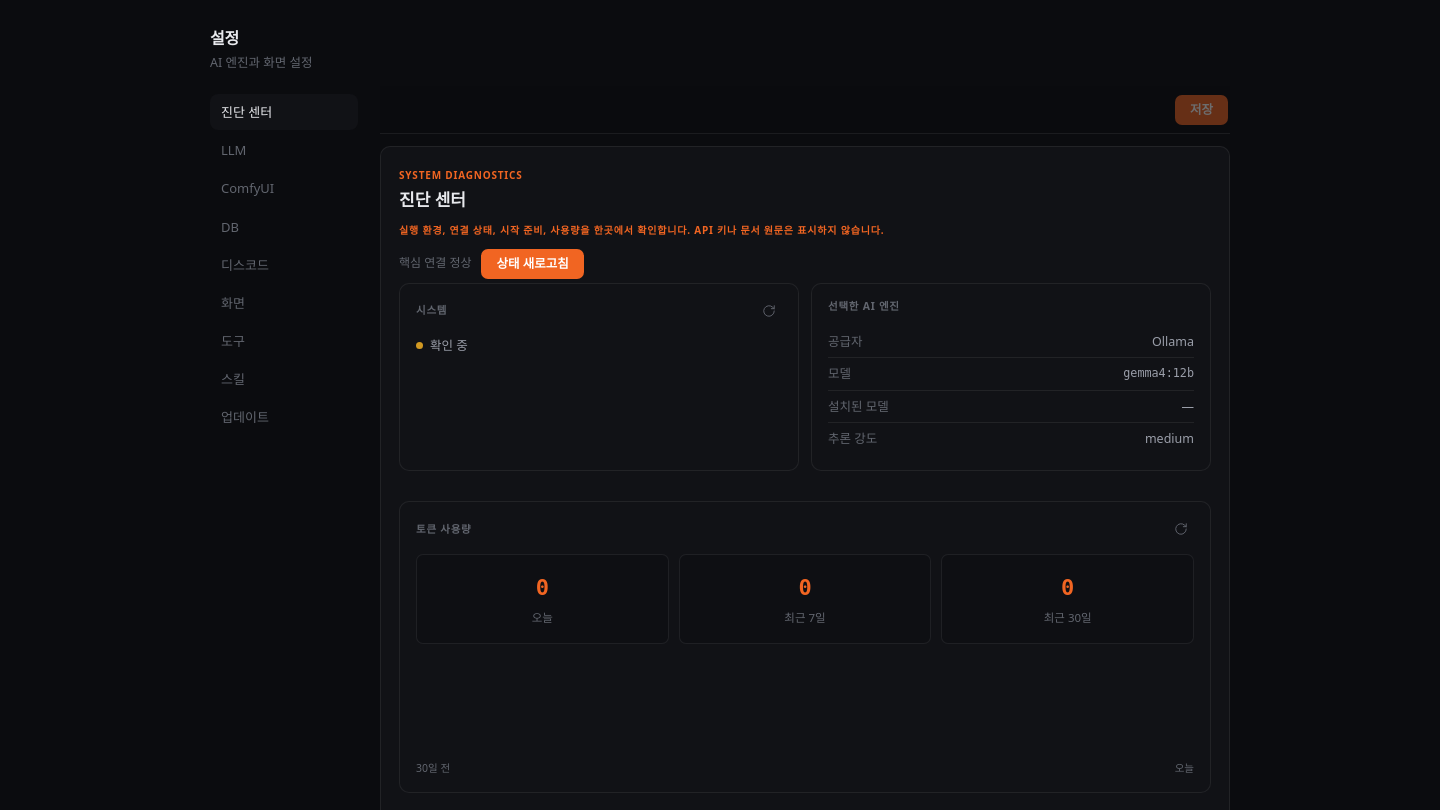
Test case: SettingsView › combines engine, generation, and search settings in the LLM tab
The width and height of the screenshot is (1440, 810).
Expected: the button "생성" is not shown
Expected: the button "리소스" is not shown
Click the button "LLM" at {"x": 284, "y": 150}, box [210,132,358,168]
(page scrolled)
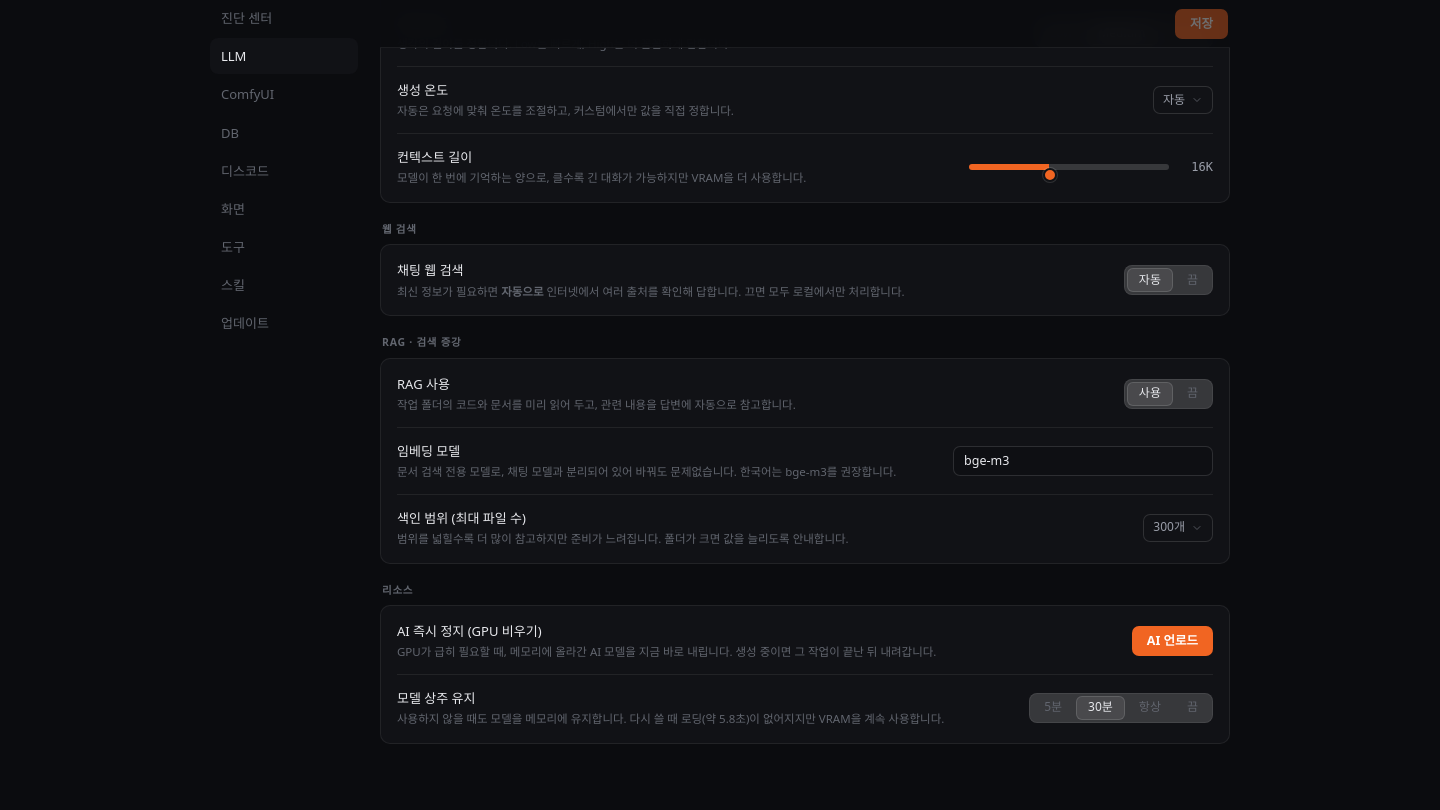
Now the text "생성 온도" is shown, box [397,81,448,99]
Now the text "RAG 사용" is shown, box [397,375,450,393]
Now the text "AI 즉시 정지 (GPU 비우기)" is shown, box [397,622,542,640]
